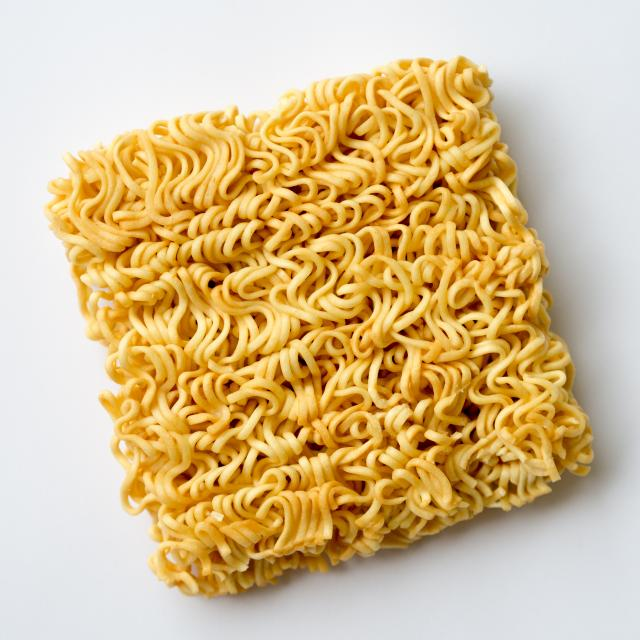noodle: (47, 53, 599, 602)
